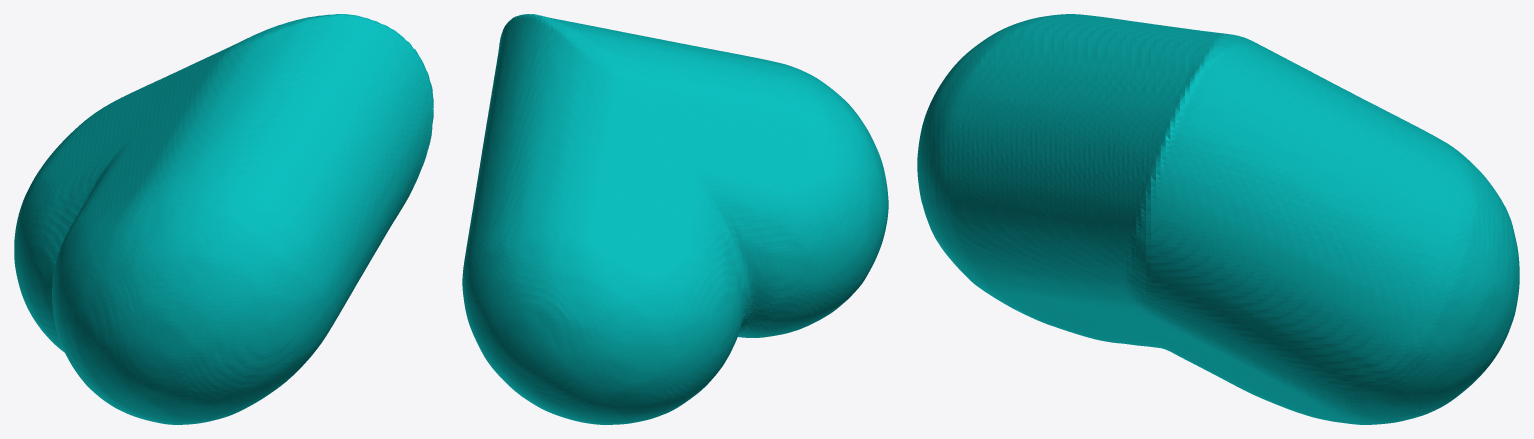
3 renders of one model, left to right at view 1: azimuth 30°, elevation 25°; view 2: azimuth 150°, elevation 25°; view 3: azimuth 270°, elevation 25°, orthographic. The views are drawn at different scales.
Bounding box in the file's own units: 0.8512 × 0.7615 × 0.973.
